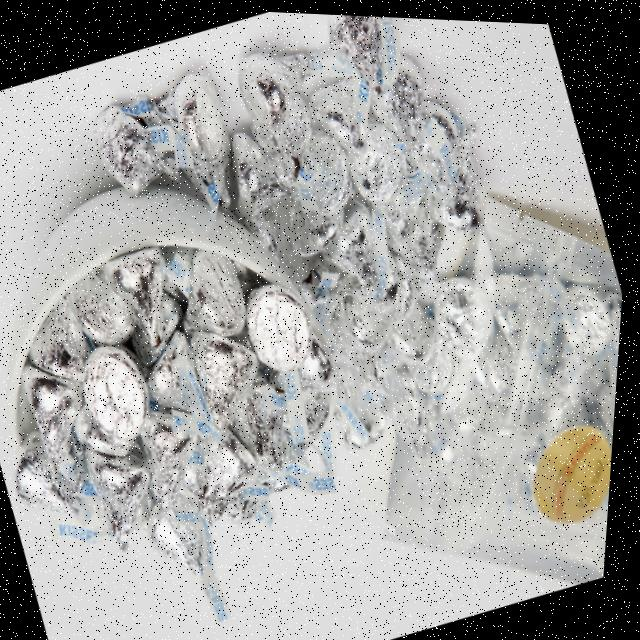kisses: (219, 19, 353, 160), (139, 482, 247, 631), (84, 87, 197, 221), (133, 64, 250, 191), (15, 357, 112, 487), (175, 399, 280, 517), (322, 98, 425, 218), (385, 86, 486, 208), (76, 440, 176, 554), (73, 334, 169, 444), (132, 334, 226, 442), (308, 11, 408, 102), (317, 269, 408, 363), (114, 238, 188, 348), (194, 327, 273, 418), (180, 252, 258, 341), (244, 275, 321, 364), (65, 256, 137, 345)
